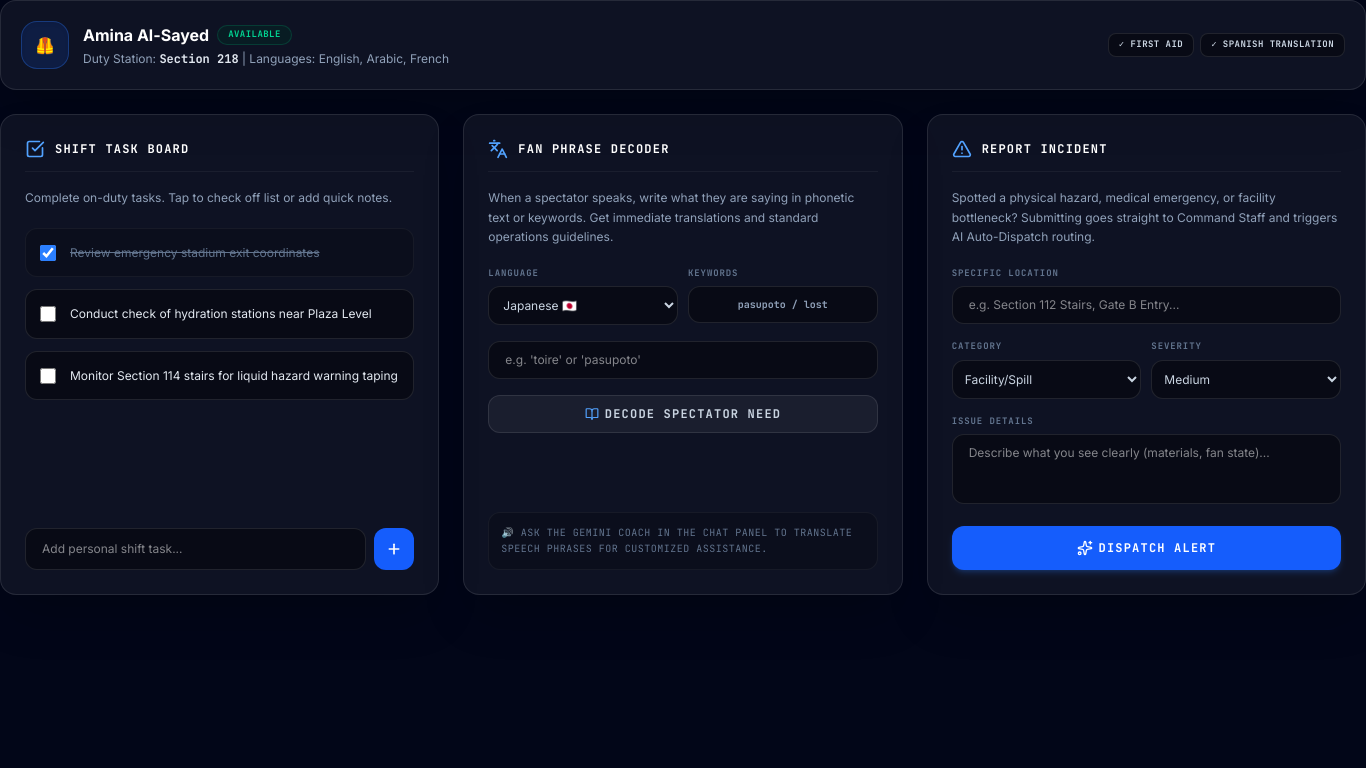
Test: VolunteerDashboard Component Tests › submits an incident report successfully and displays confirmation message
Expected: the text box with id "report-description-textarea" is shown, top-left (952, 434), bottom-right (1341, 504)
Expected: the form with id "incident-report-form" is shown, top-left (952, 266), bottom-right (1341, 570)
Type "Gate B Staircase" into the field with id "report-location-input". click: (1146, 305)
box: top-left (952, 286), bottom-right (1341, 324)
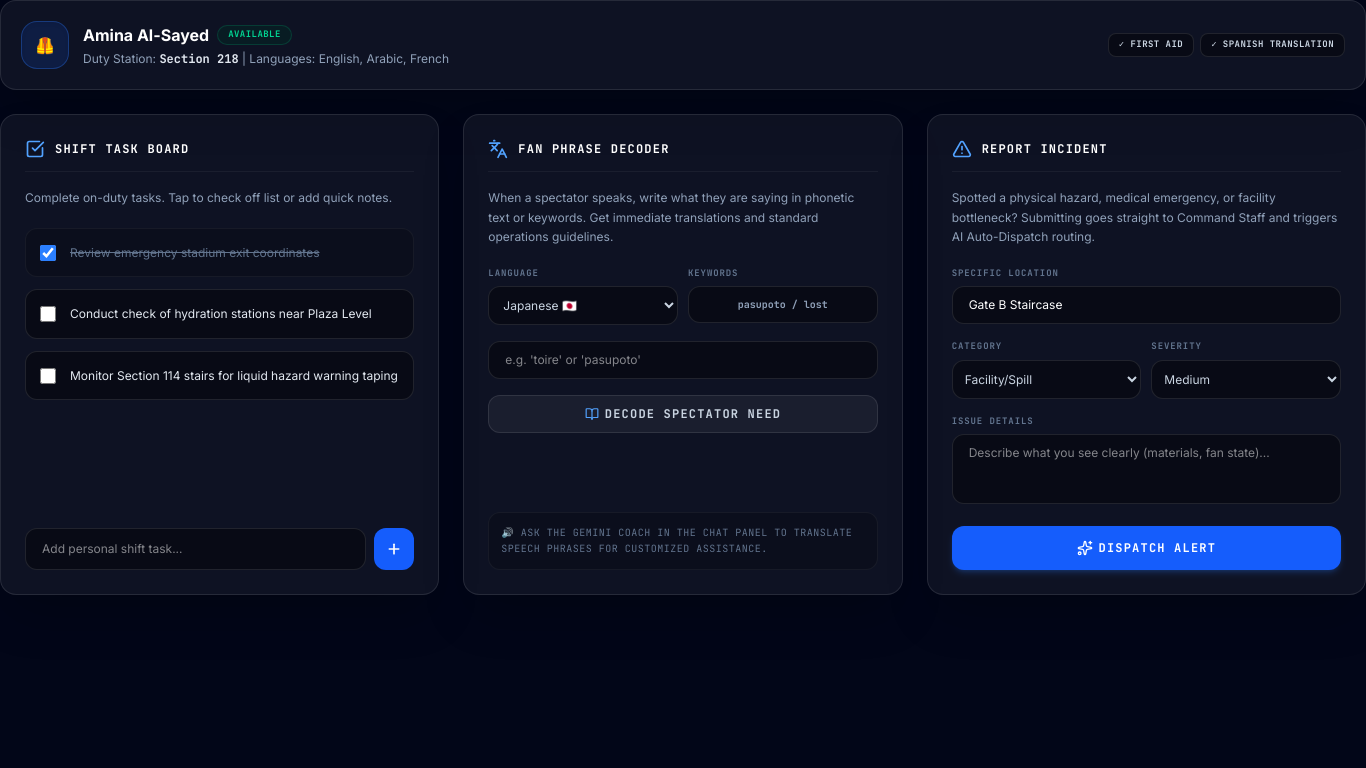
Type "Slippery puddle on floor" into the text box with id "report-description-textarea". click: (1146, 469)
box: top-left (952, 434), bottom-right (1341, 504)
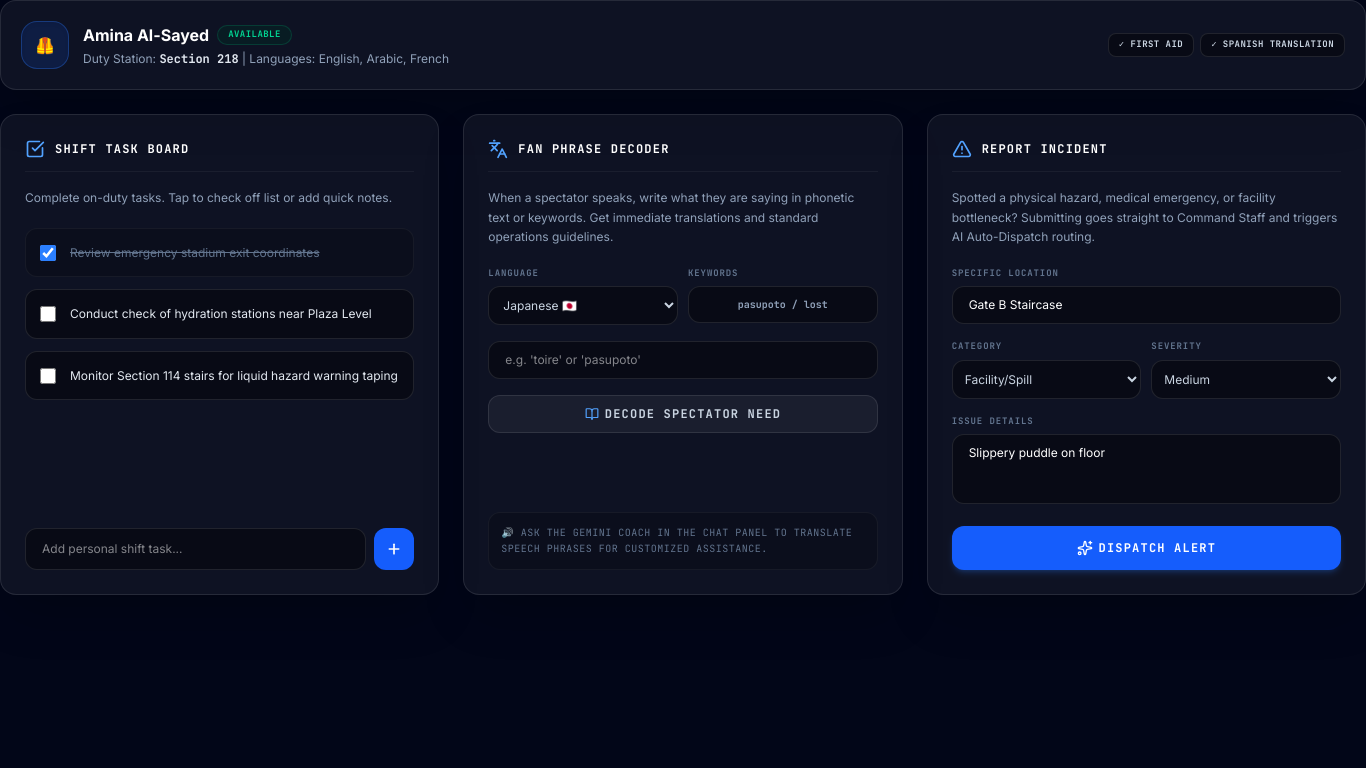
Submit the form with id "incident-report-form", box top-left (952, 266), bottom-right (1341, 570)
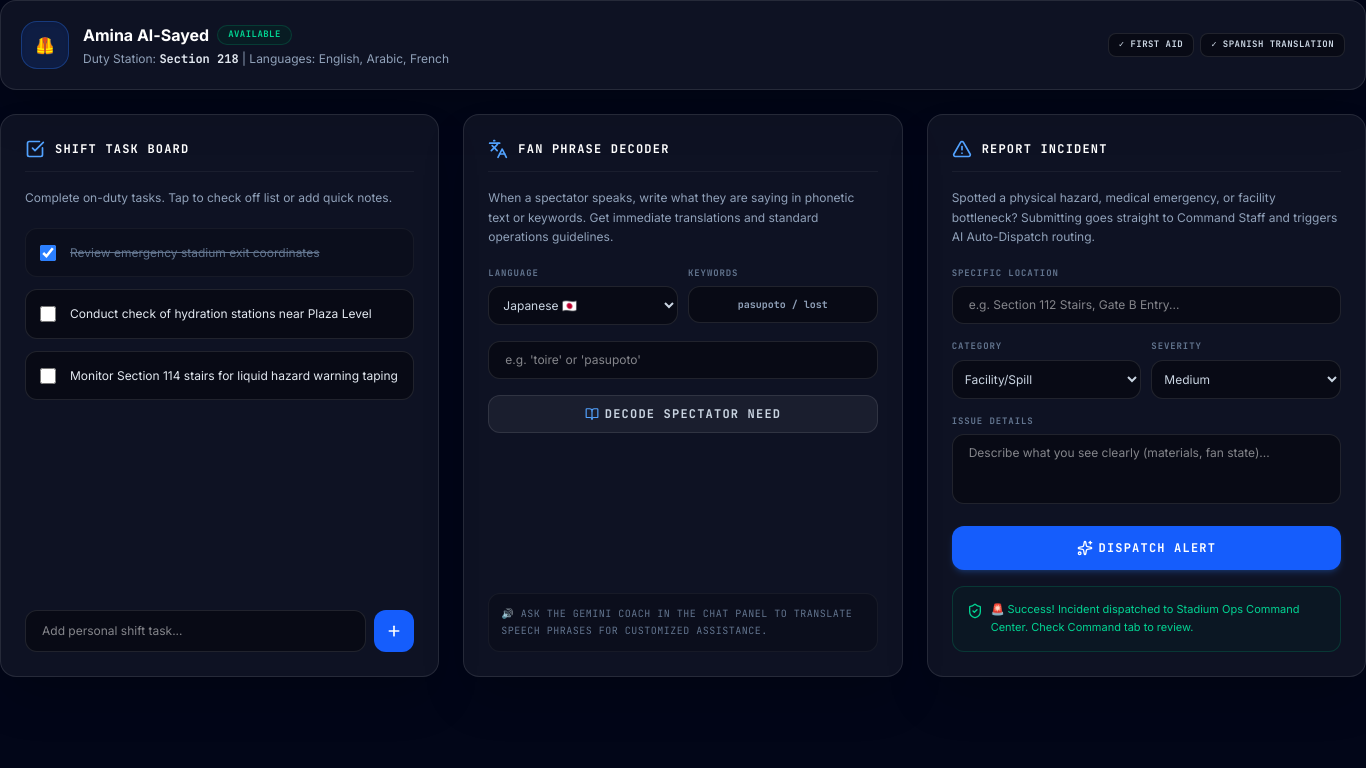
Expected: the text "Success! Incident dispatched" is shown, top-left (991, 602), bottom-right (1300, 634)
